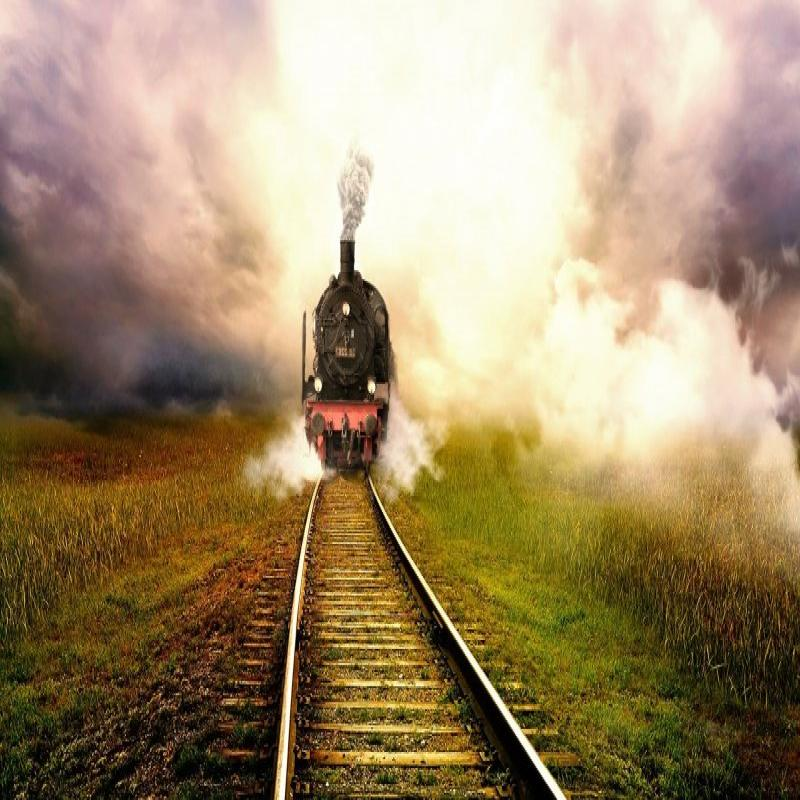train: (302, 236, 393, 481)
